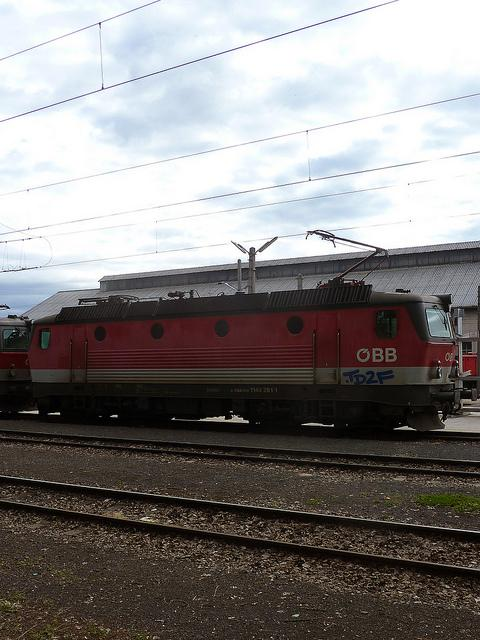Train: (1, 280, 466, 432)
